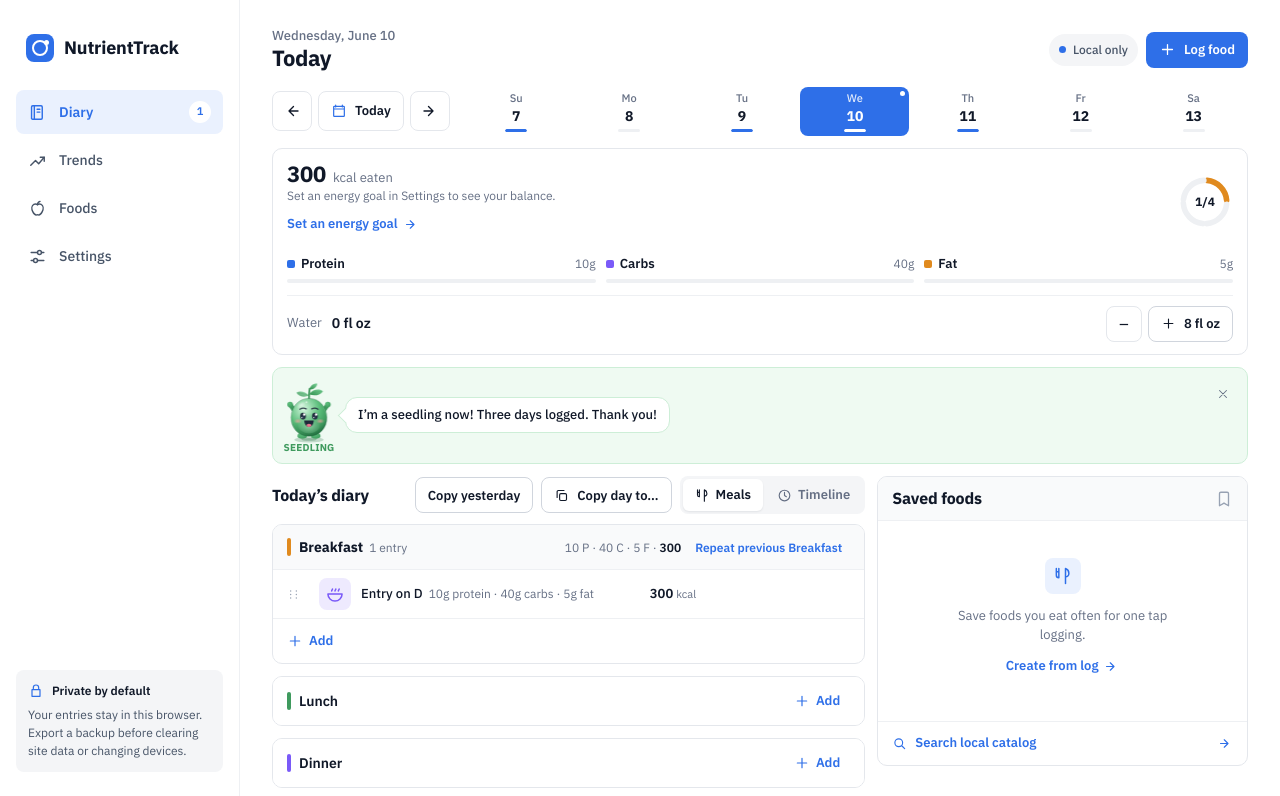
Test: midnight rollover of "today" › keeps a past day (D-3) selected across rollover, and Back to today then goes to the new day
Expected: the text "Entry on D" is shown, [361,585,423,604]
Click the button named "Previous day".
click(292, 111)  # box [272,91,312,131]
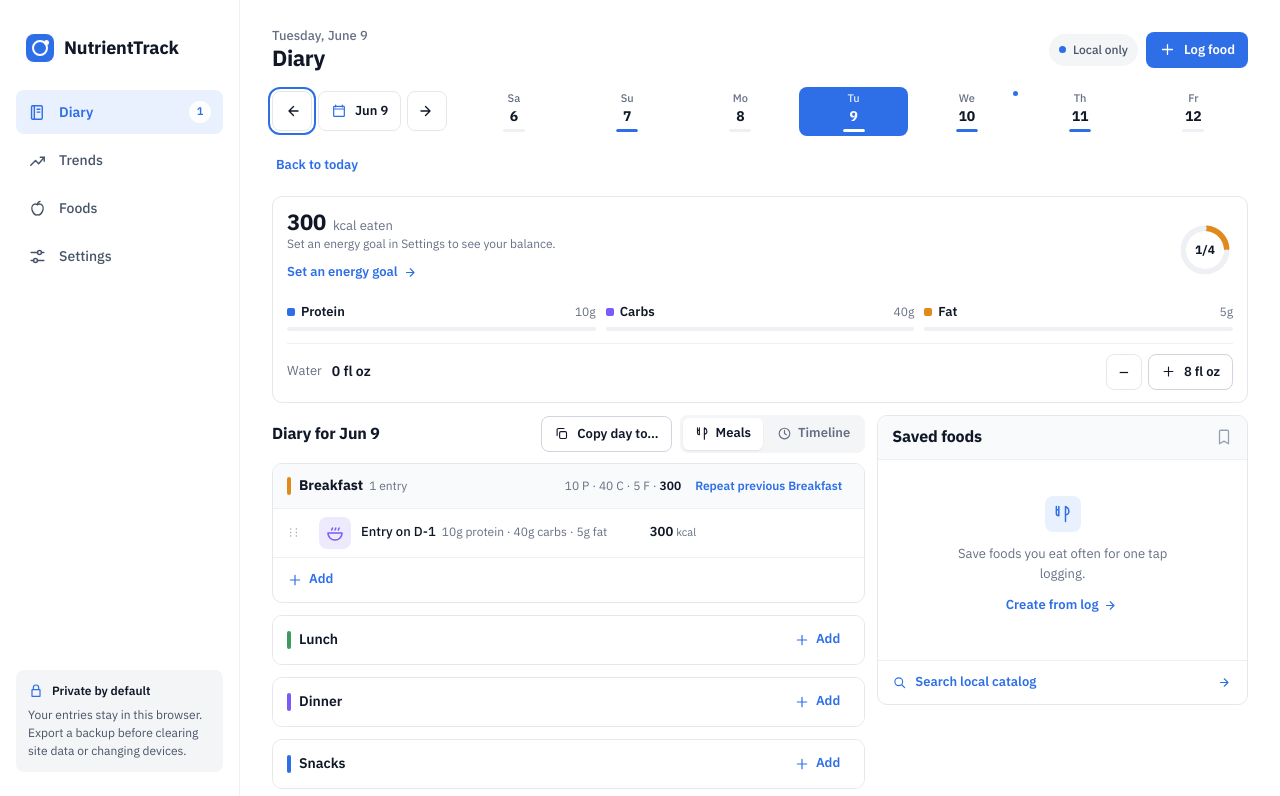
Click the button named "Previous day".
click(292, 111)  # box [272,91,312,131]
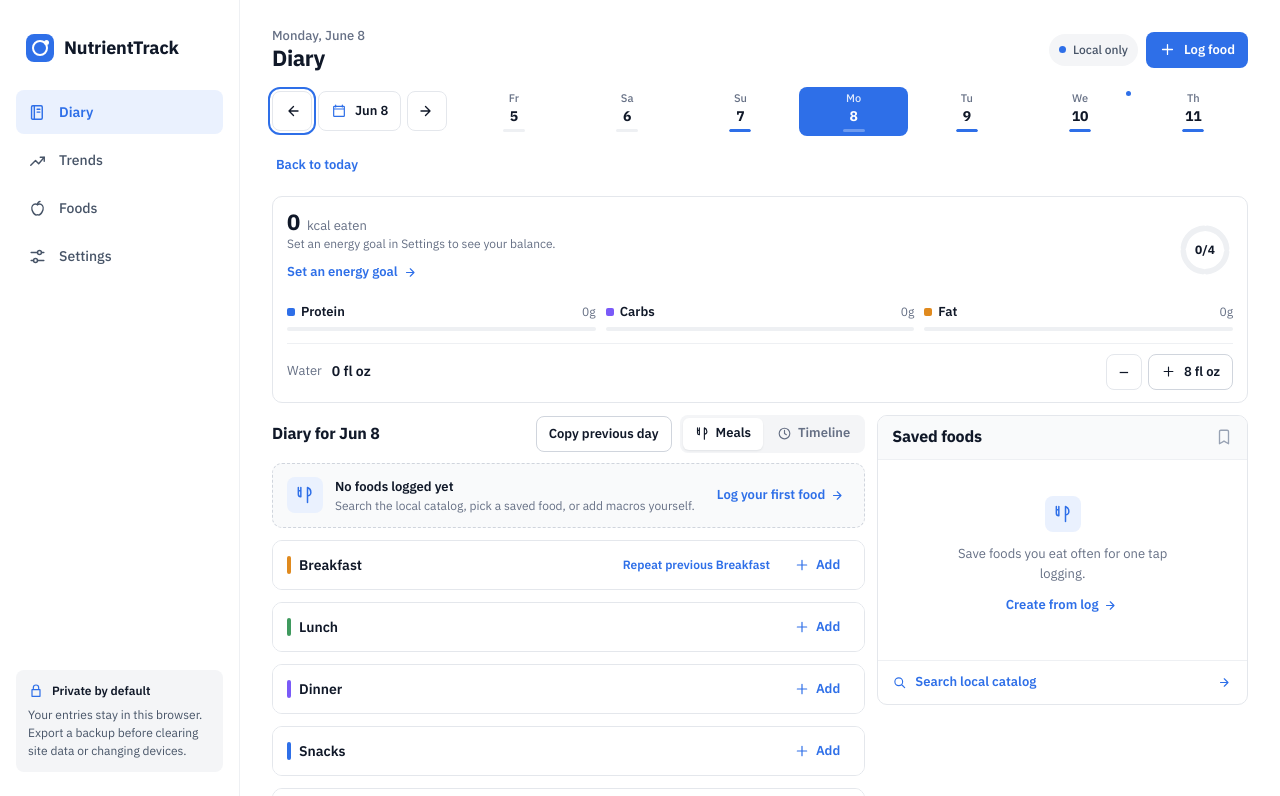
Click the button named "Previous day".
click(292, 111)  # box [272,91,312,131]
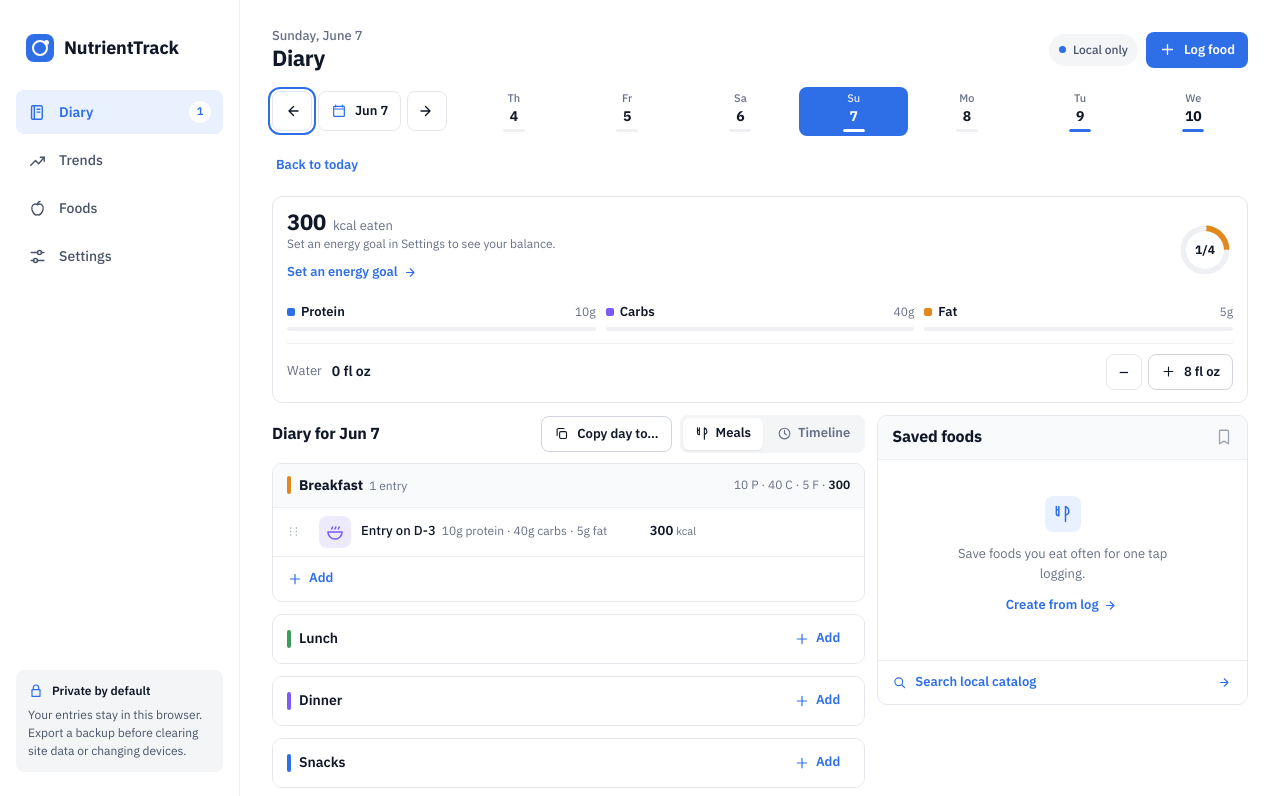
Expected: the text "Entry on D-3" is shown, [361,522,436,541]
Click the button "Back to today".
click(317, 166)  # box [272,148,362,184]
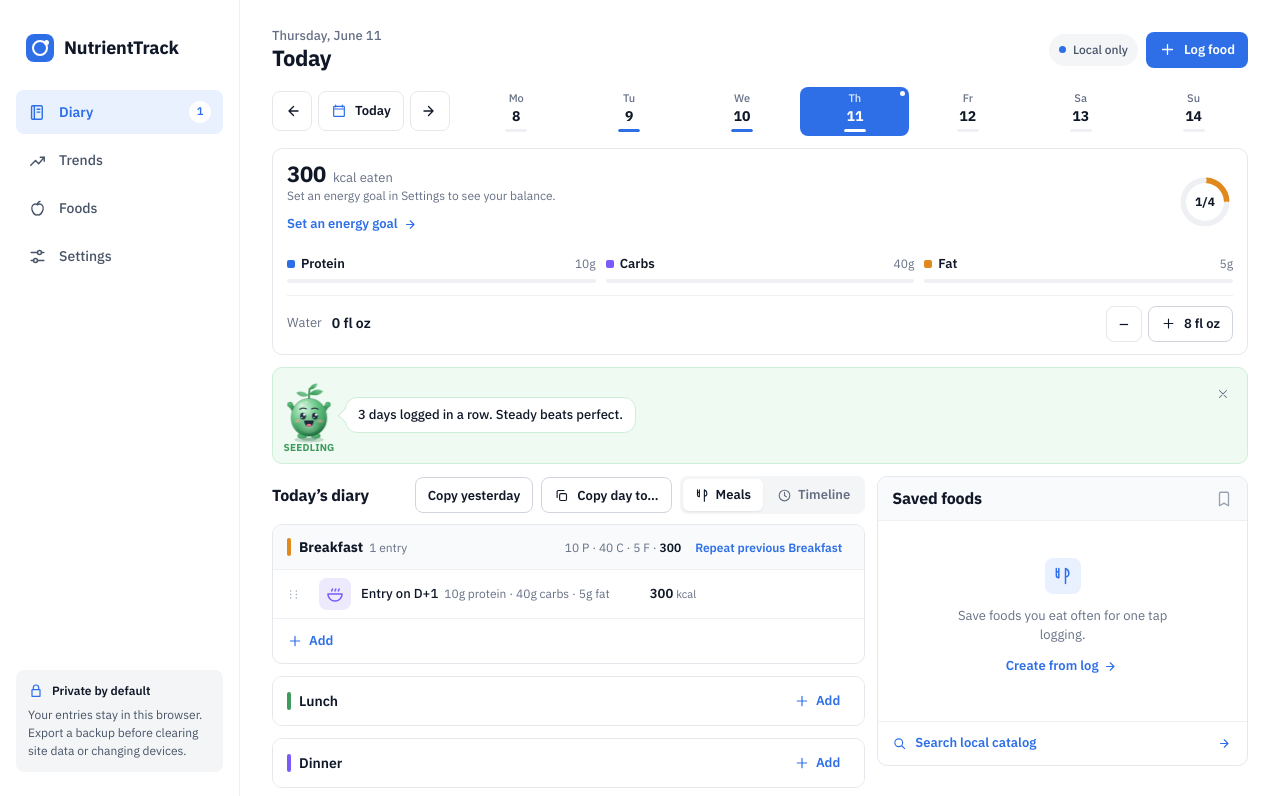
Expected: the heading "Today" is shown, [272,43,331,72]
Expected: the text "Entry on D+1" is shown, [361,585,438,604]
